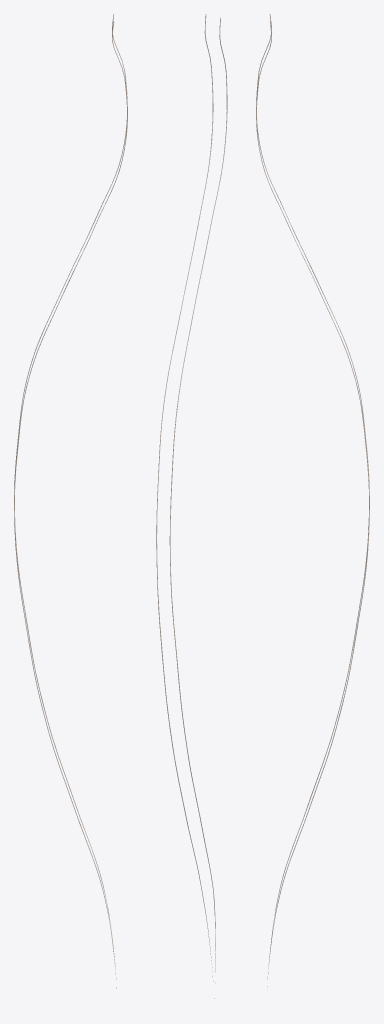
Rendered from nervoso-spinotectal-tract.glb.
The picture shows the model from 3 angles, left to right: view 1: azimuth 90°, elevation 25°; view 2: azimuth 150°, elevation 25°; view 3: azimuth 270°, elevation 25°; orthographic projection.
Parts seen in each view (by area): view 1: Spinotectal tract; view 2: Spinotectal tract; view 3: Spinotectal tract.
Boxes of the visible parts, bbox=[...] form: Spinotectal tract: bbox=[14, 14, 127, 987]; Spinotectal tract: bbox=[156, 14, 227, 998]; Spinotectal tract: bbox=[256, 14, 369, 986].
Size of the model in its own units: 0.00794 by 0.4891 by 0.0508.
